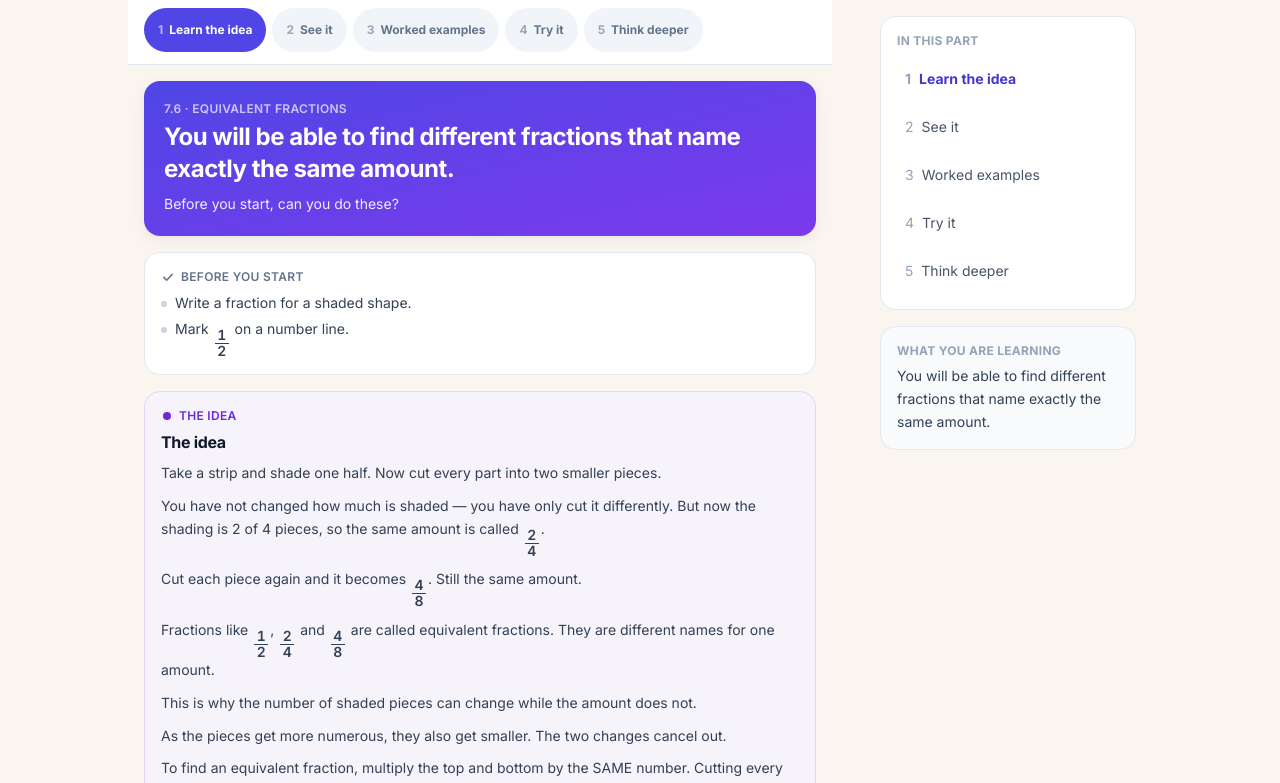
§12 the lesson is staged, not one long document › reaches every stage without hiding anything permanently
This screenshot has width=1280, height=783.
Click the 1st button "5Think deeper".
click(643, 30)  # box top-left (584, 8), bottom-right (702, 52)
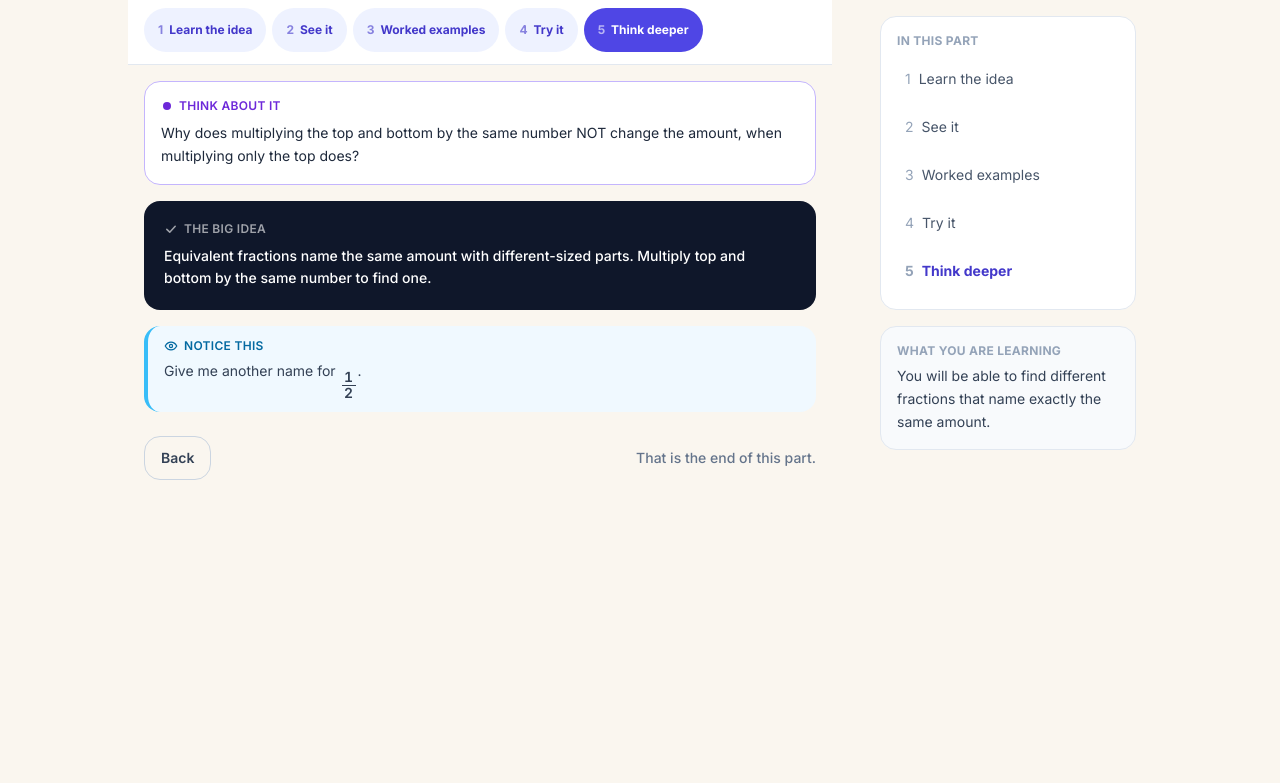
Now the text "Equivalent fractions name the" is shown, box top-left (164, 246), bottom-right (745, 286)
// And back again — stages are navigation, not a one-way wizard.
Click the 1st button "1Learn the idea".
click(205, 30)  # box top-left (144, 8), bottom-right (266, 52)
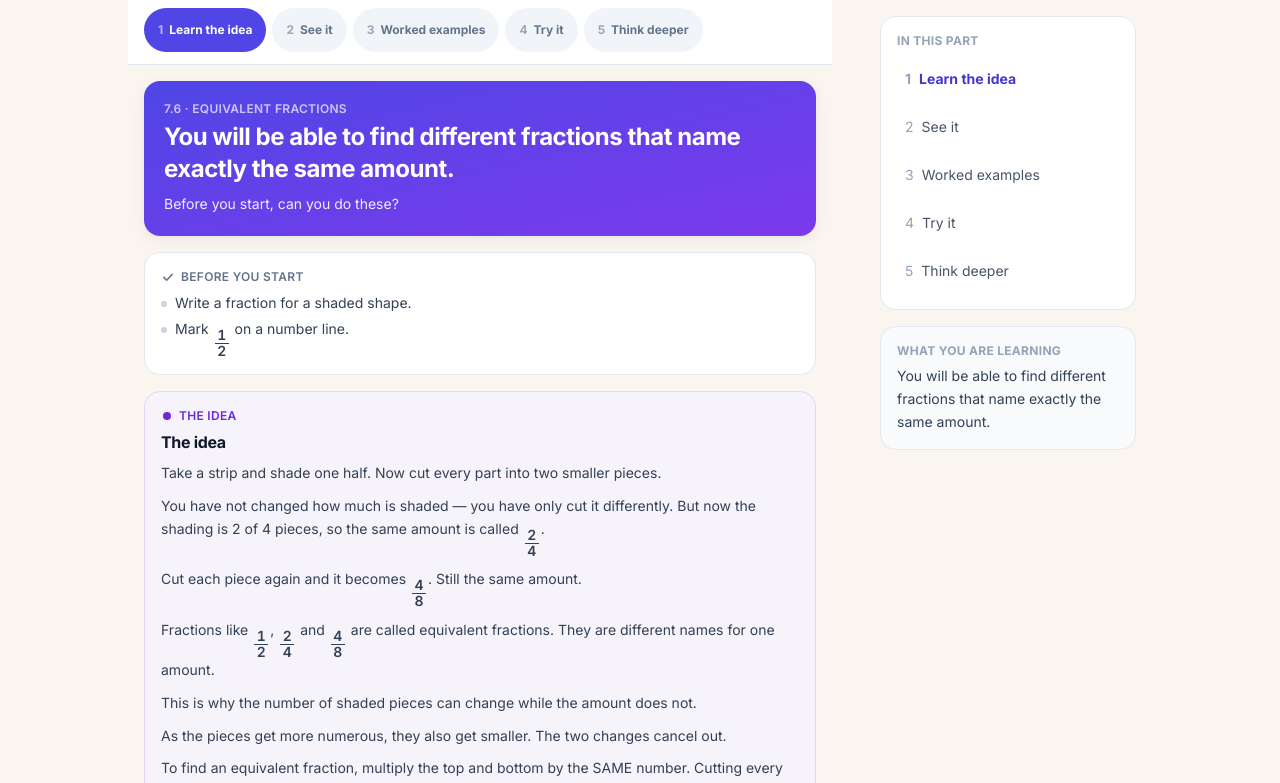
Now the text "Take a strip and shade one hal" is shown, box top-left (161, 464), bottom-right (662, 481)
